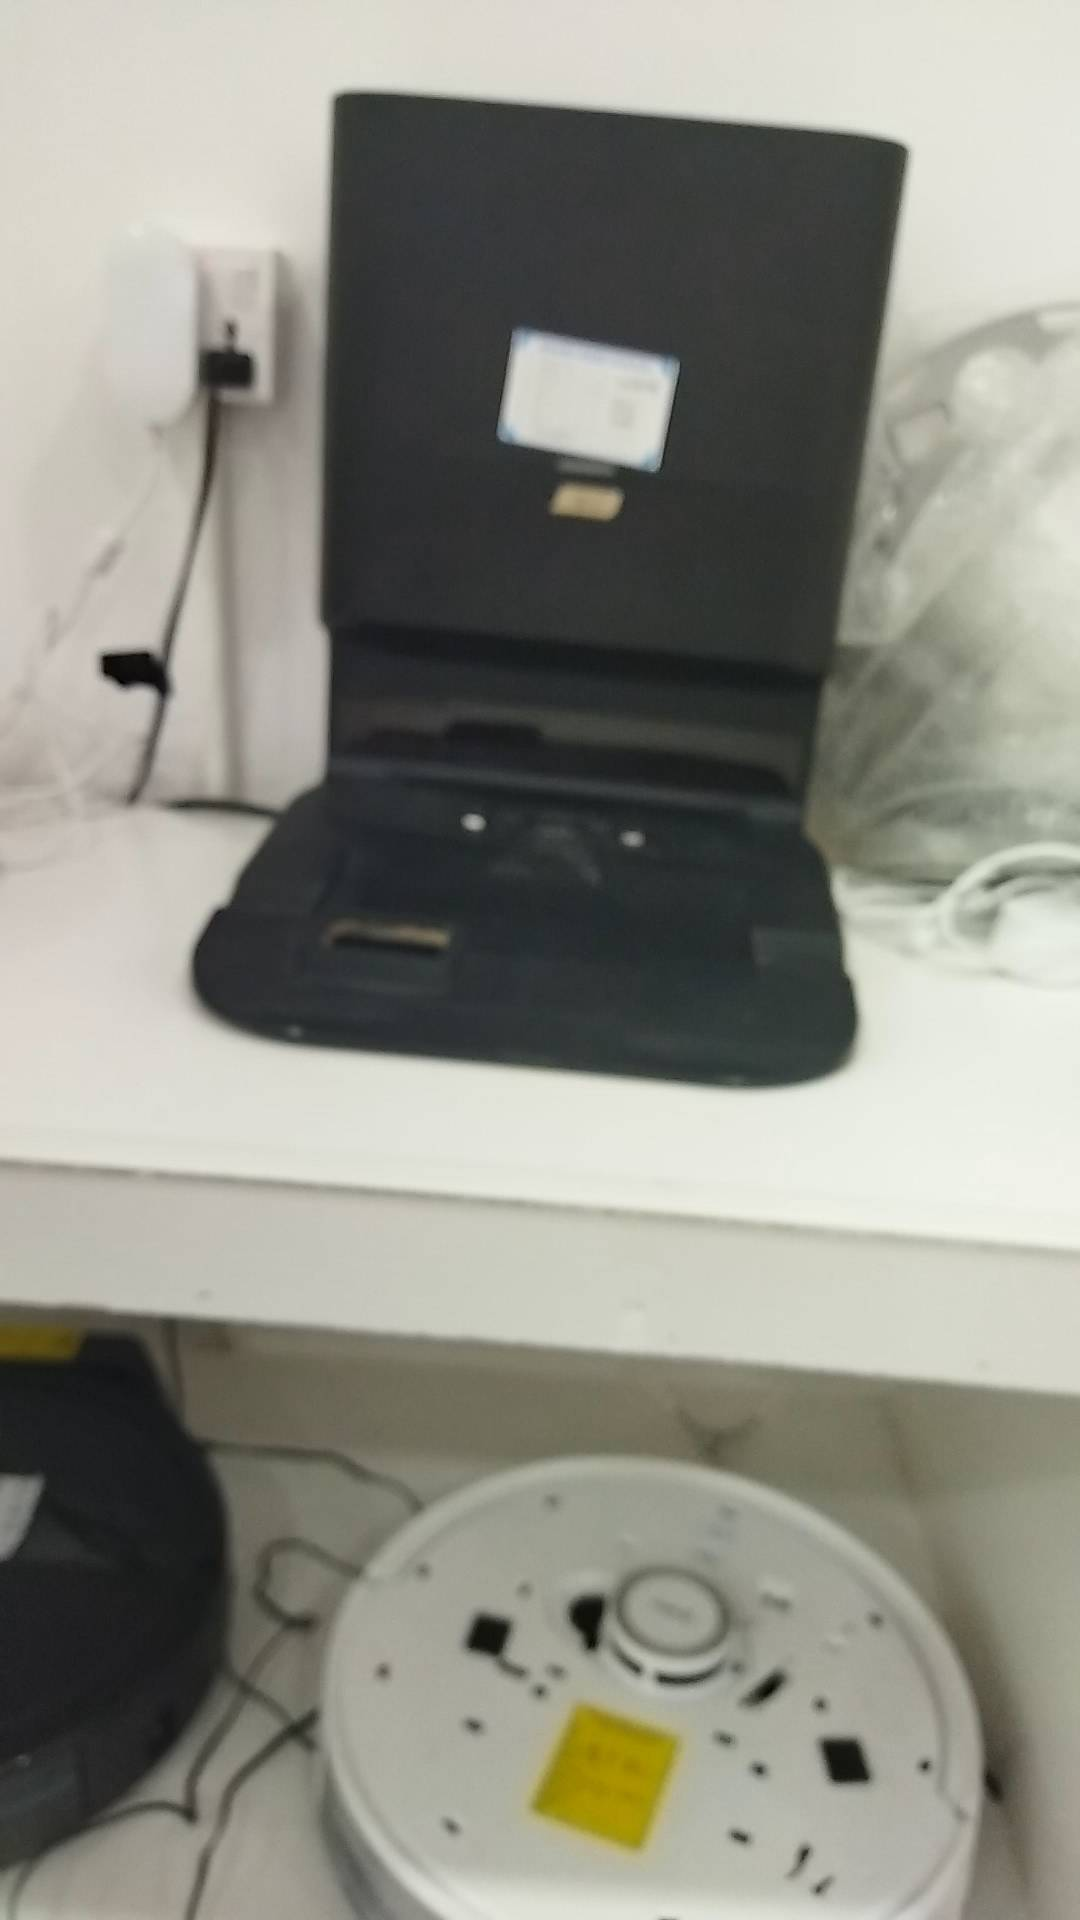dust collecting barrel: (186, 90, 916, 1088)
